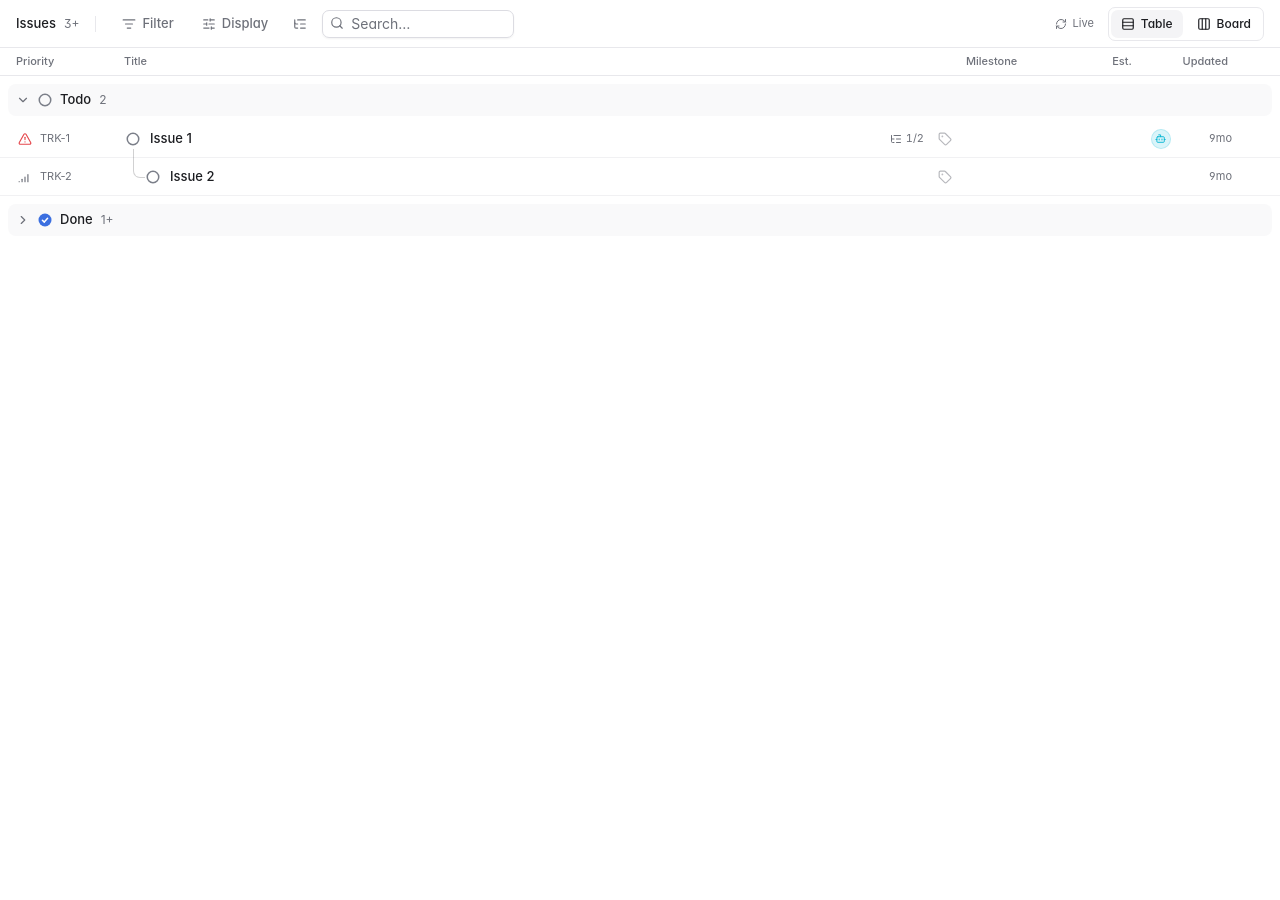
Test case: table display › toggles sub-issues from the toolbar button, in step with the Display menu
The image size is (1280, 900).
Click the button named "Parents only".
click(300, 24)  # box [286, 10, 314, 38]
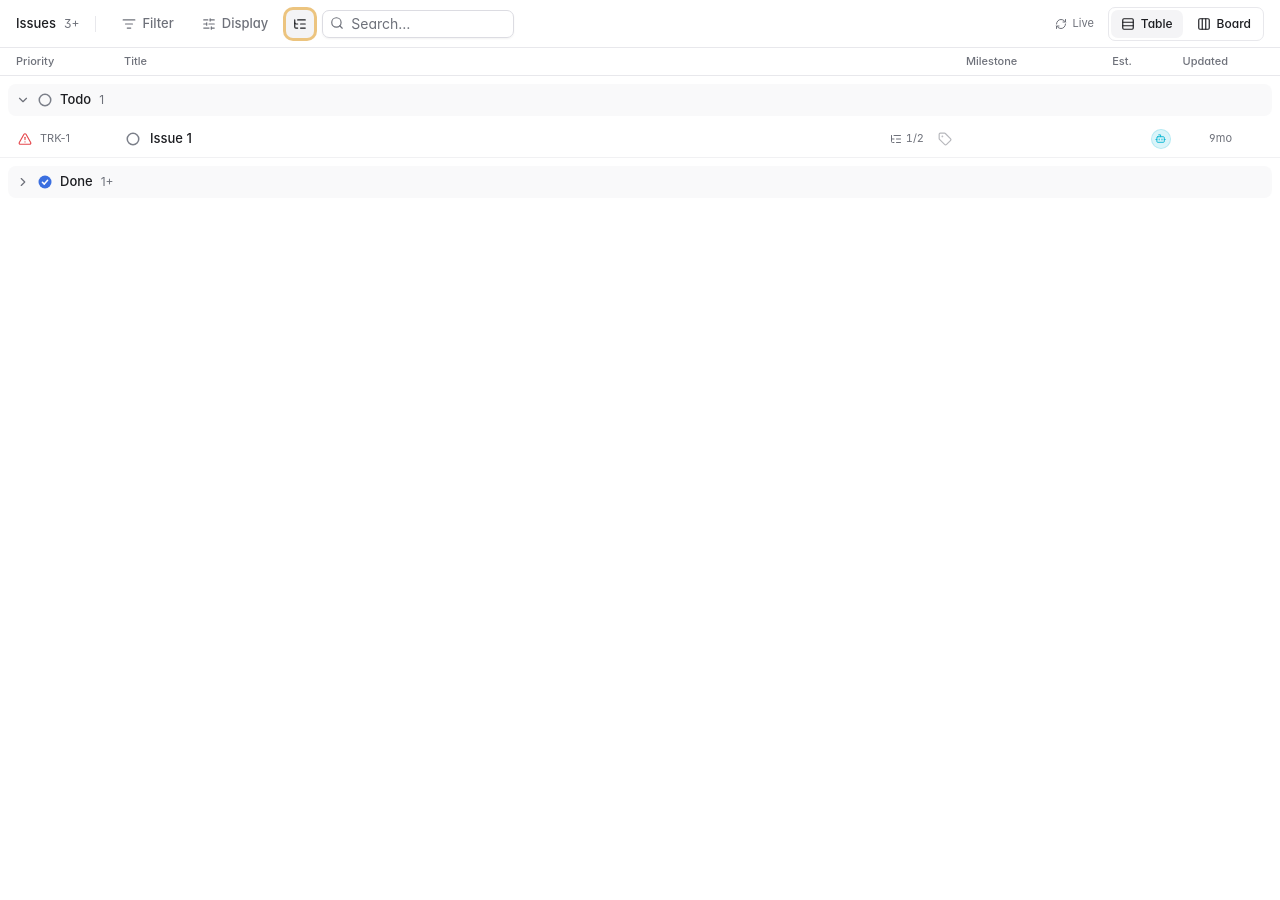
Now the link "Issue 2" is gone
Click the button "Display".
click(235, 24)  # box [192, 10, 278, 38]
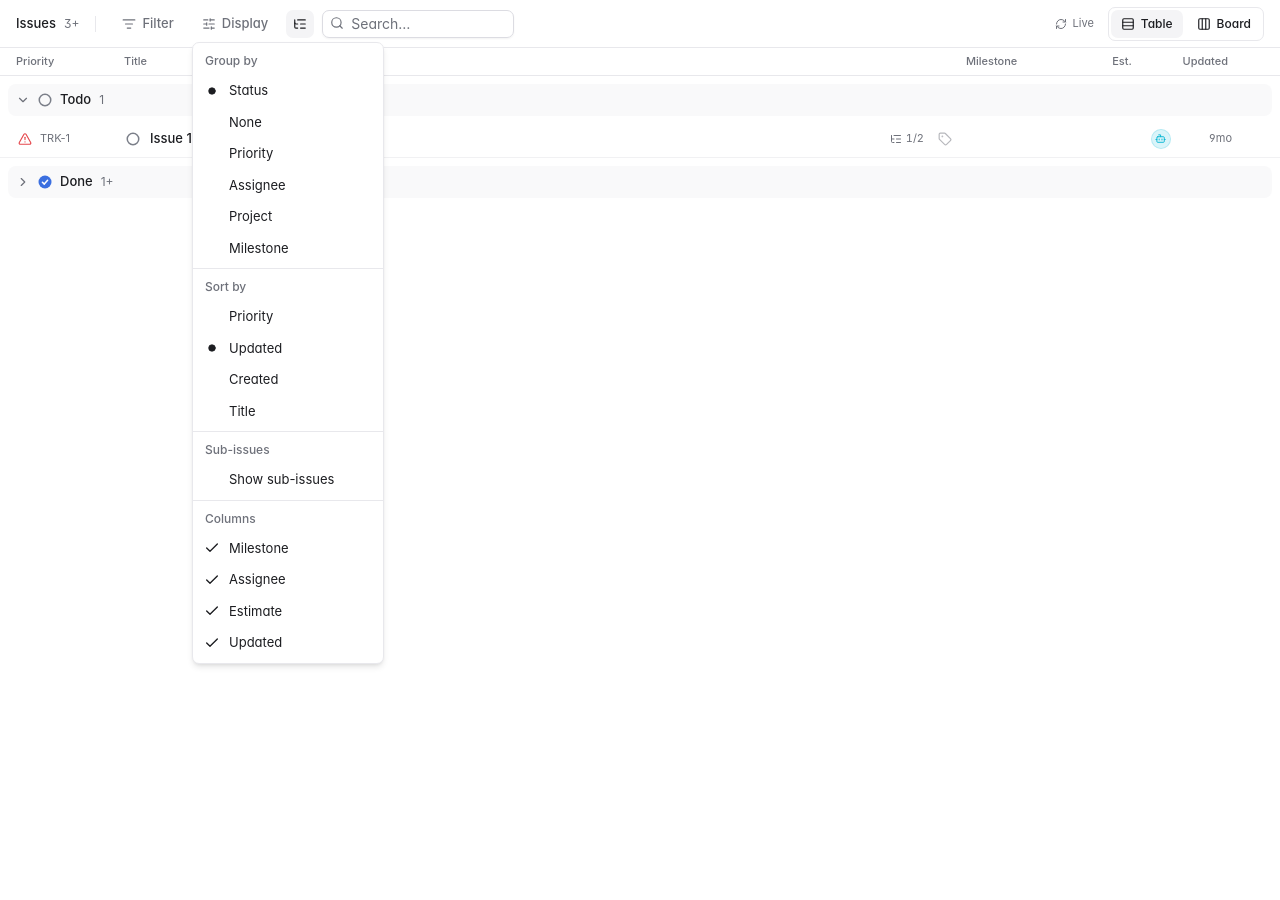
Now the menu item "Show sub-issues" is not checked, box [229, 471, 334, 487]
Press Escape
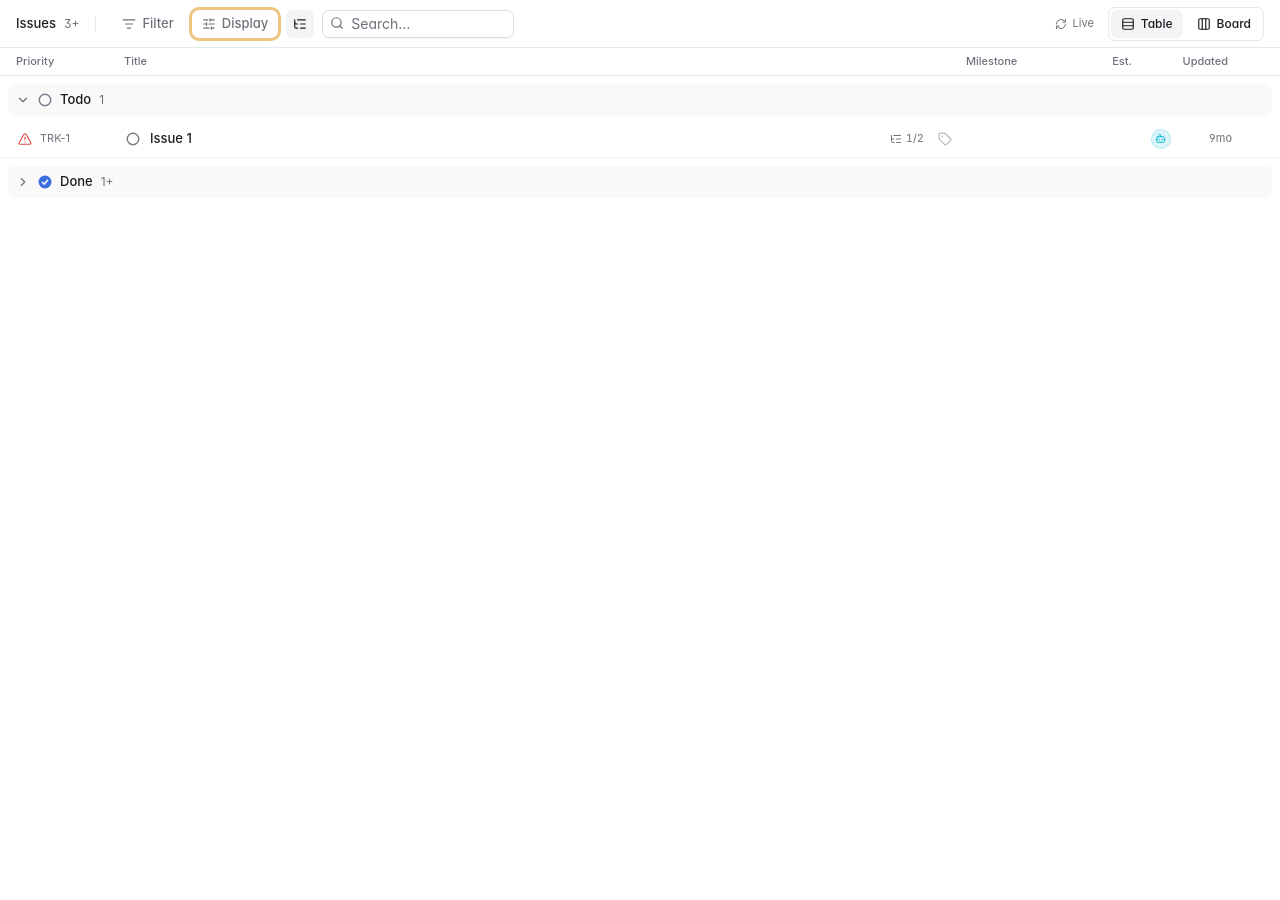
Click the button named "Parents only".
click(300, 24)  # box [286, 10, 314, 38]
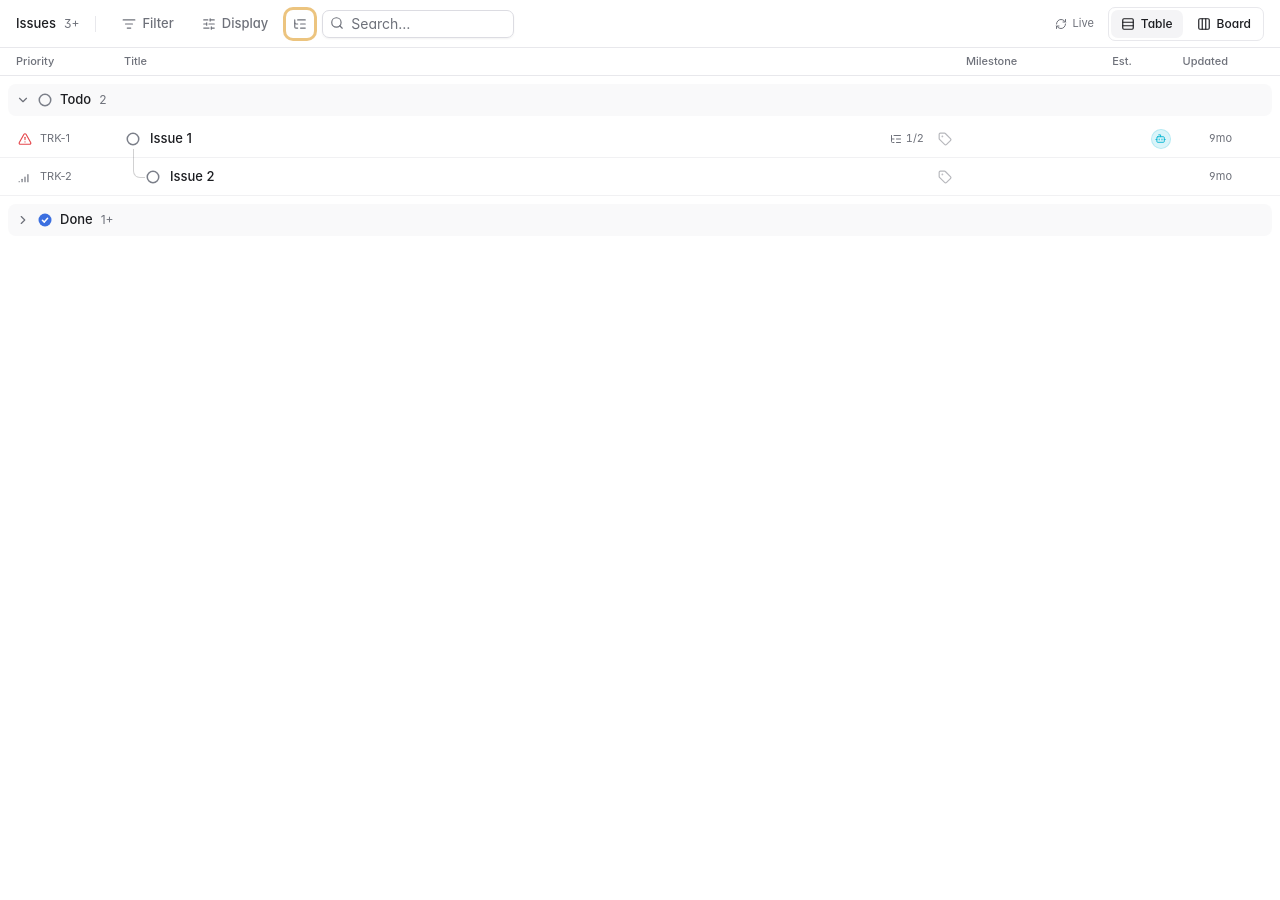
Now the link "Issue 2" is shown, box [170, 168, 214, 184]
